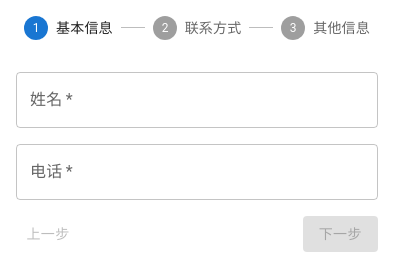
Test case: StepperExample 组件测试 › 表单验证功能
Expected: the button "下一步" is disabled, [303,216,378,252]
Type "John Doe" into the field labelled "姓名 *" at (197,100), box [16,72,378,128]
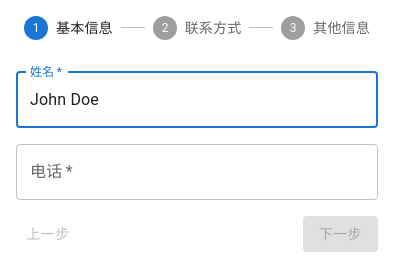
Type "13800138000" into the field labelled "电话 *" at (197,172), box [16,144,378,200]
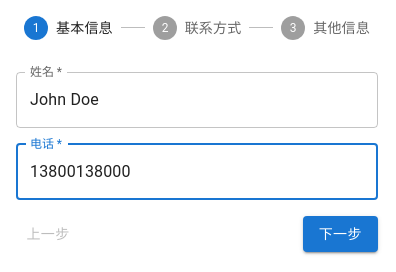
Expected: the button "下一步" is enabled, [303,216,378,252]
